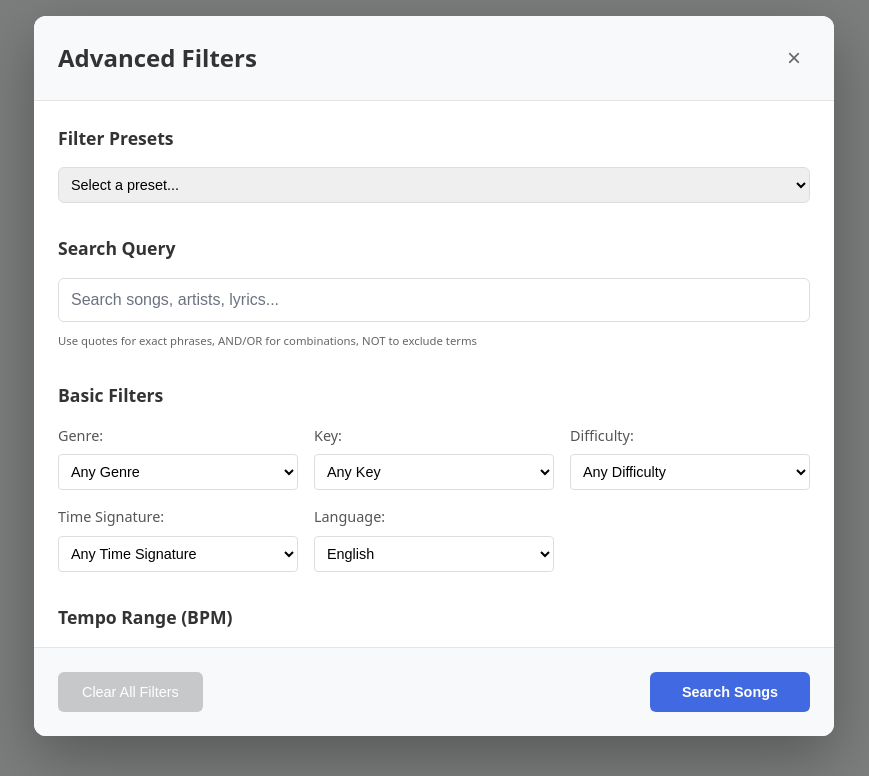
AdvancedFilterPanel › Filter Presets › should show save preset button when filters are active
Set a filter
Select "Rock" in the dropdown labelled "Genre:" at (178, 472), box [58,454,298,490]
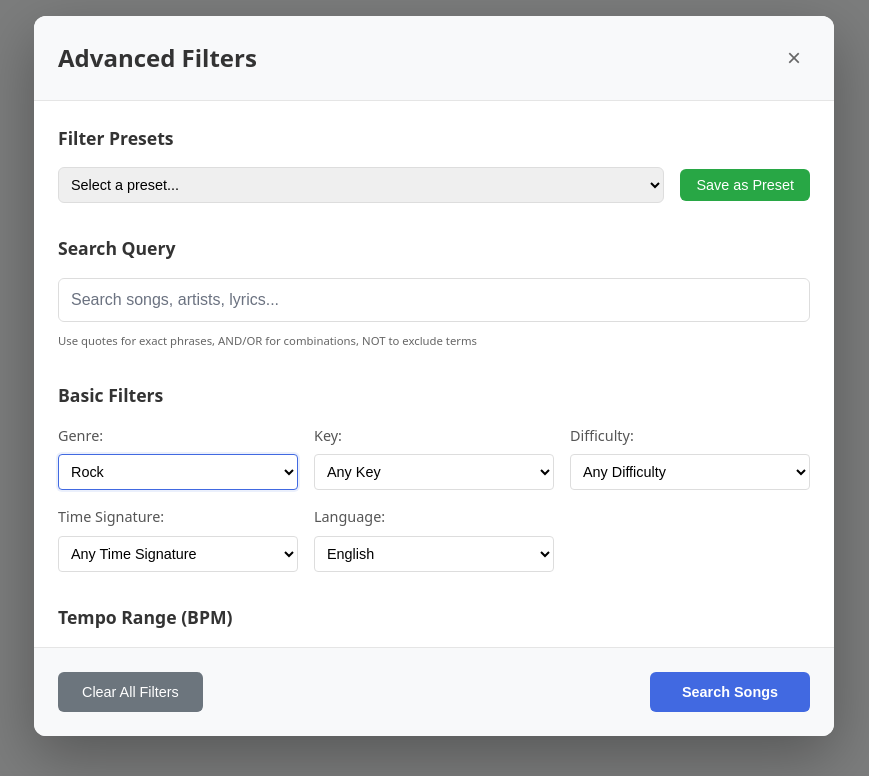
Now the button "Save as Preset" is shown, box [680,169,810,201]
